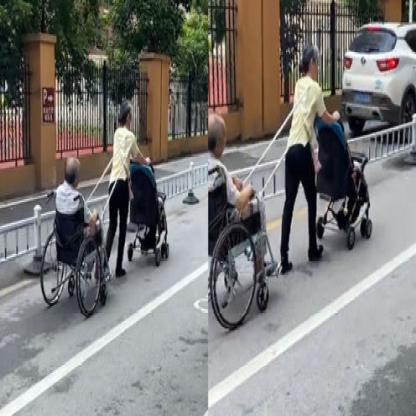wheelchair: (207, 112, 284, 334), (39, 154, 114, 318)
